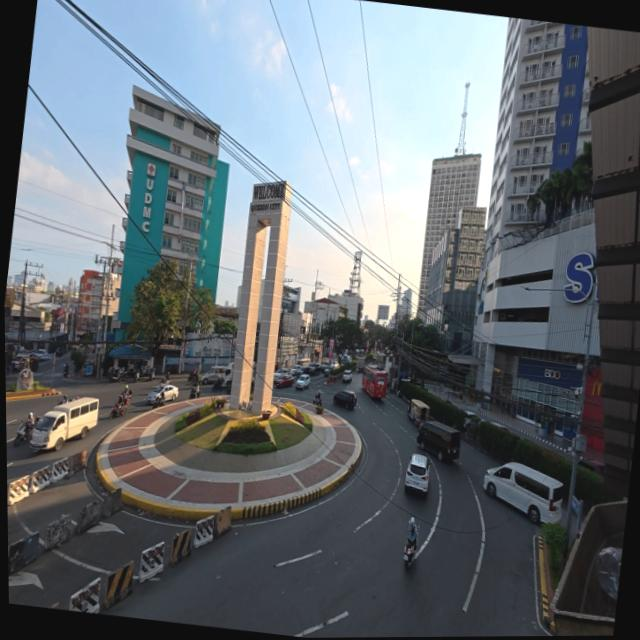Jeepneys: (407, 399, 429, 427)
bus: (363, 366, 387, 398), (372, 353, 385, 369)
car: (405, 453, 429, 495), (147, 384, 179, 404), (202, 365, 227, 385), (333, 390, 357, 408), (578, 459, 604, 475), (464, 411, 480, 428), (275, 374, 294, 388), (490, 421, 510, 433), (296, 374, 310, 389), (274, 369, 289, 382), (34, 350, 53, 360), (310, 363, 322, 375), (54, 346, 66, 358), (290, 365, 302, 376), (319, 360, 330, 371), (343, 370, 353, 382), (301, 366, 313, 376)
motorcycle: (14, 422, 33, 446), (404, 537, 417, 568), (110, 401, 127, 419), (125, 366, 140, 381), (142, 367, 155, 380), (154, 394, 165, 408), (110, 370, 122, 382), (212, 379, 223, 391), (122, 391, 131, 405), (190, 388, 200, 400), (146, 368, 155, 381), (162, 370, 171, 383), (188, 372, 197, 383), (313, 396, 322, 406), (59, 396, 68, 405), (63, 365, 69, 378)
trucks: (356, 357, 365, 371)
vans: (484, 463, 563, 523), (31, 398, 98, 450), (418, 422, 461, 461)
